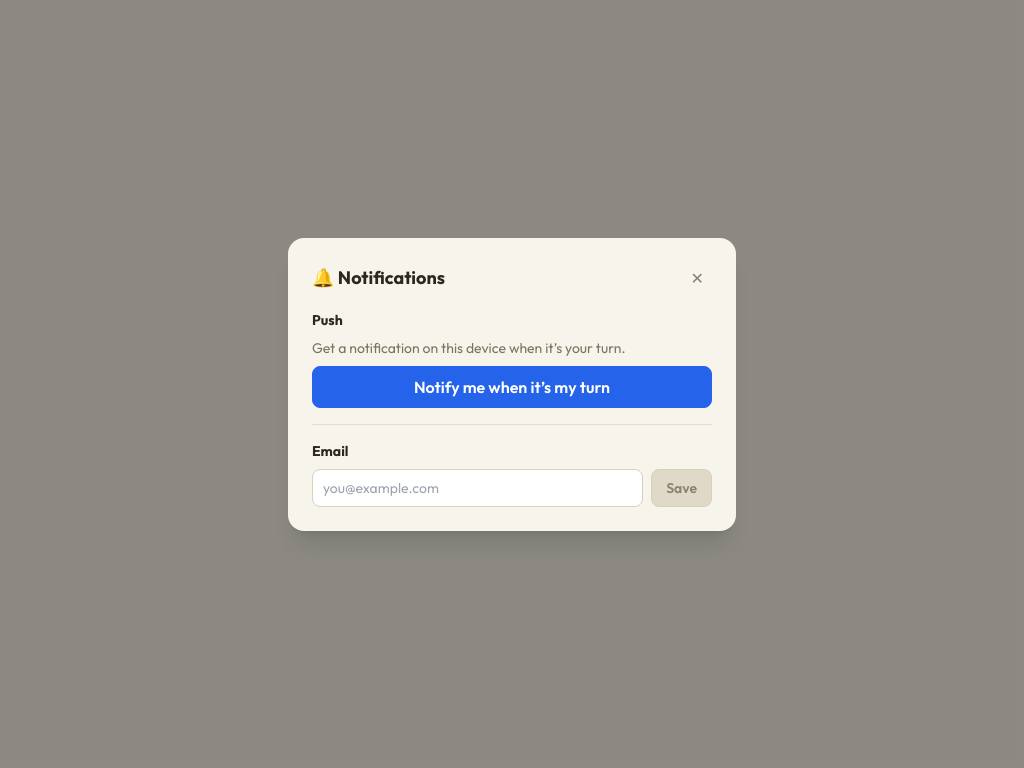
Test: NotificationSettings › submitting an email shows the check-your-inbox pending text
In the field named "Email address": [478, 488] box [312, 468, 643, 506], type "pete@example.com"
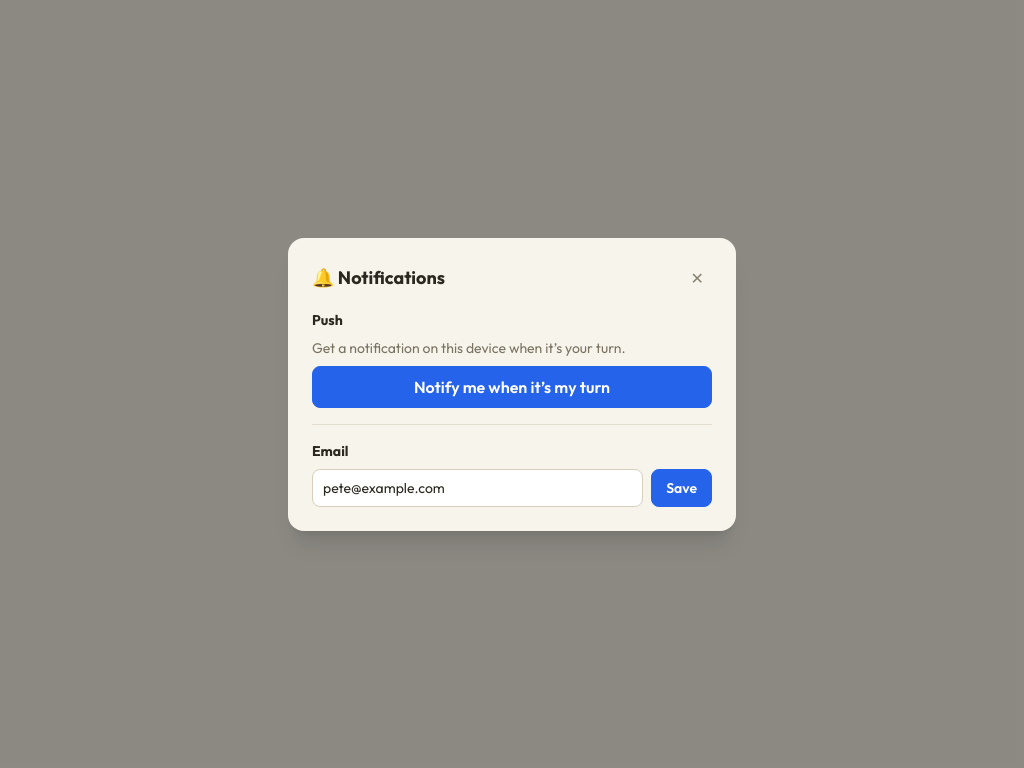
Click the button "Save": [682, 488] box [651, 468, 712, 506]
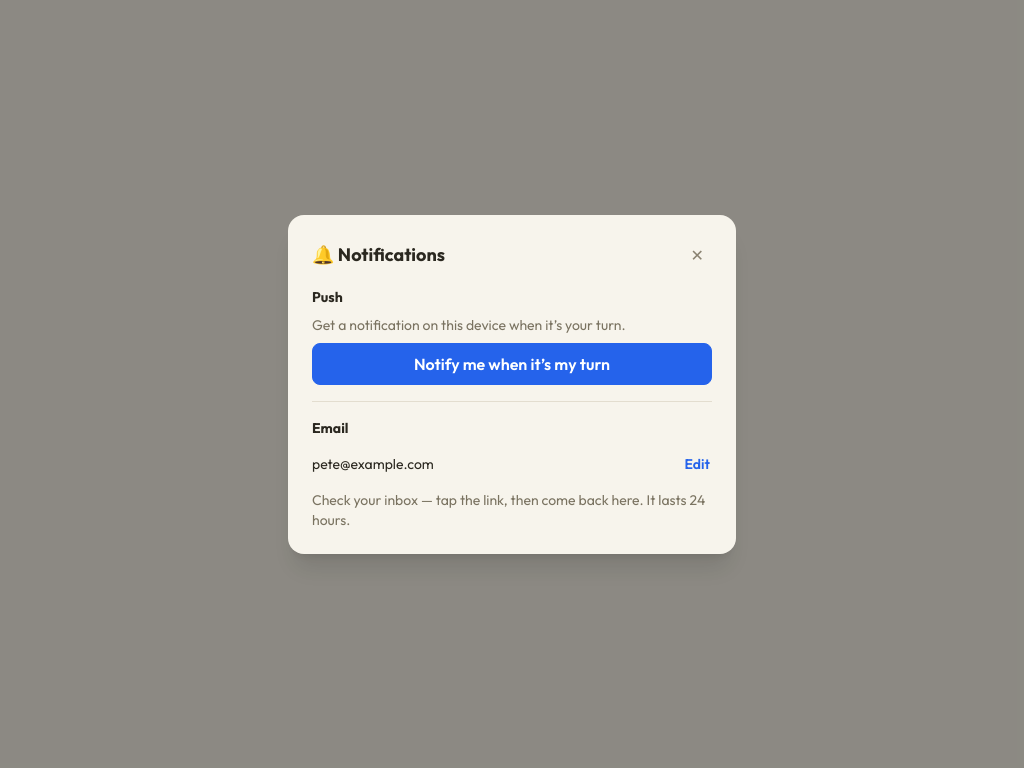
Check: the text "Check your inbox — tap the link, then come back here. It lasts 24 hours." is shown, box [312, 490, 712, 530]
